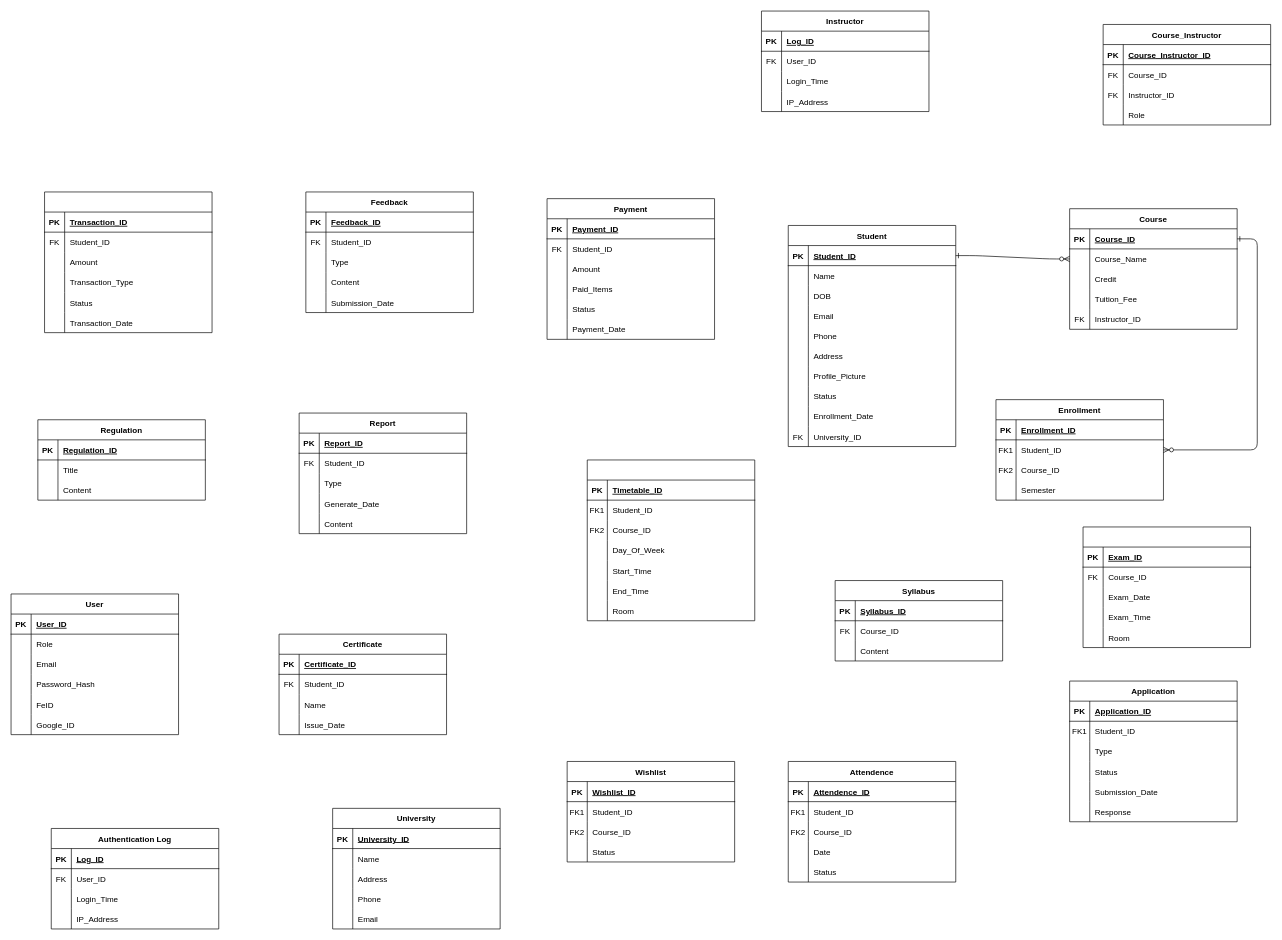
The diagram is 1282 pixels wide and 940 high, and some of its shapes have lost their labels. The box of each missing label's shape, as (x1, y1, x2, y2) in pixels:
Exam Schedule: (1082, 526, 1251, 648)
Transaction History: (44, 191, 212, 333)
Weekly Timetable: (587, 459, 755, 621)
